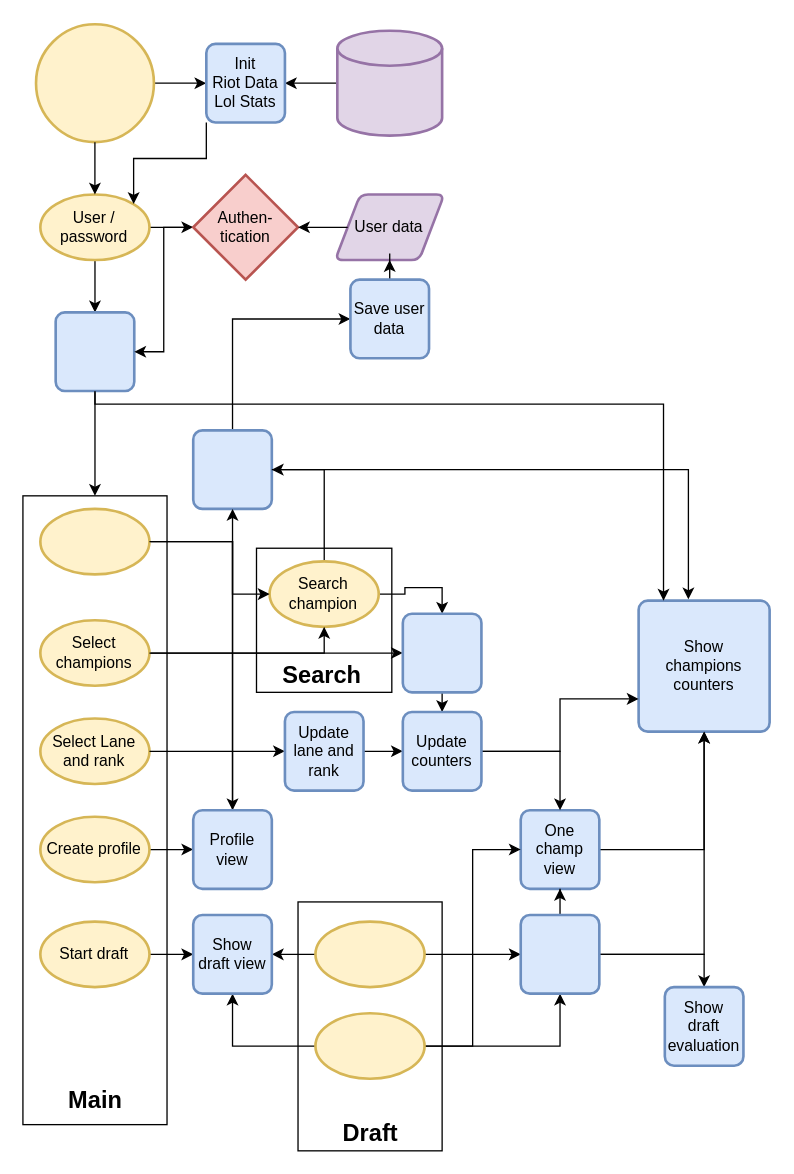
Image size: 794x1174. Some labels were removed from this diagram. The centre of each missing label's shape, as x and y in pixels:
"Add to champion pull" goes at [231,469].
"Adding champion to draft" goes at [369,954].
"Database" goes at [389,82].
"Edit champion pull" goes at [94,541].
"Insert in counters list" goes at [559,953].
"Load page and resources" goes at [94,82].
"Log in" goes at [94,351].
"Select champion 1 or many" goes at [441,652].
"Select own champions" goes at [369,1045].
